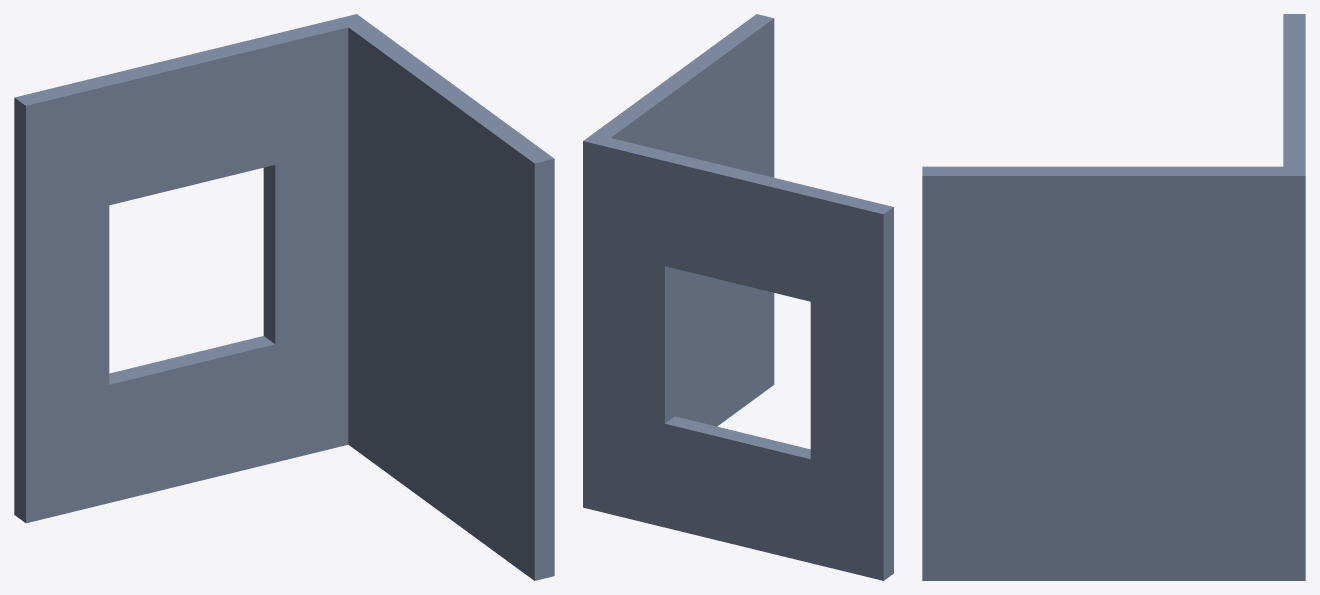
File: Wall3_C1_10.fbx
3 renders of one model, left to right at view 1: azimuth 30°, elevation 25°; view 2: azimuth 150°, elevation 25°; view 3: azimuth 270°, elevation 25°, orthographic. The views are drawn at different scales.
Parts seen in each view (by area): view 1: Wall3_C1_10; view 2: Wall3_C1_10; view 3: Wall3_C1_10.
Boxes of the visible parts, bbox=[...] form: Wall3_C1_10: bbox=[14, 14, 554, 580]; Wall3_C1_10: bbox=[583, 14, 893, 580]; Wall3_C1_10: bbox=[922, 14, 1305, 580].
Size of the model in its own units: 258 by 300 by 258.
